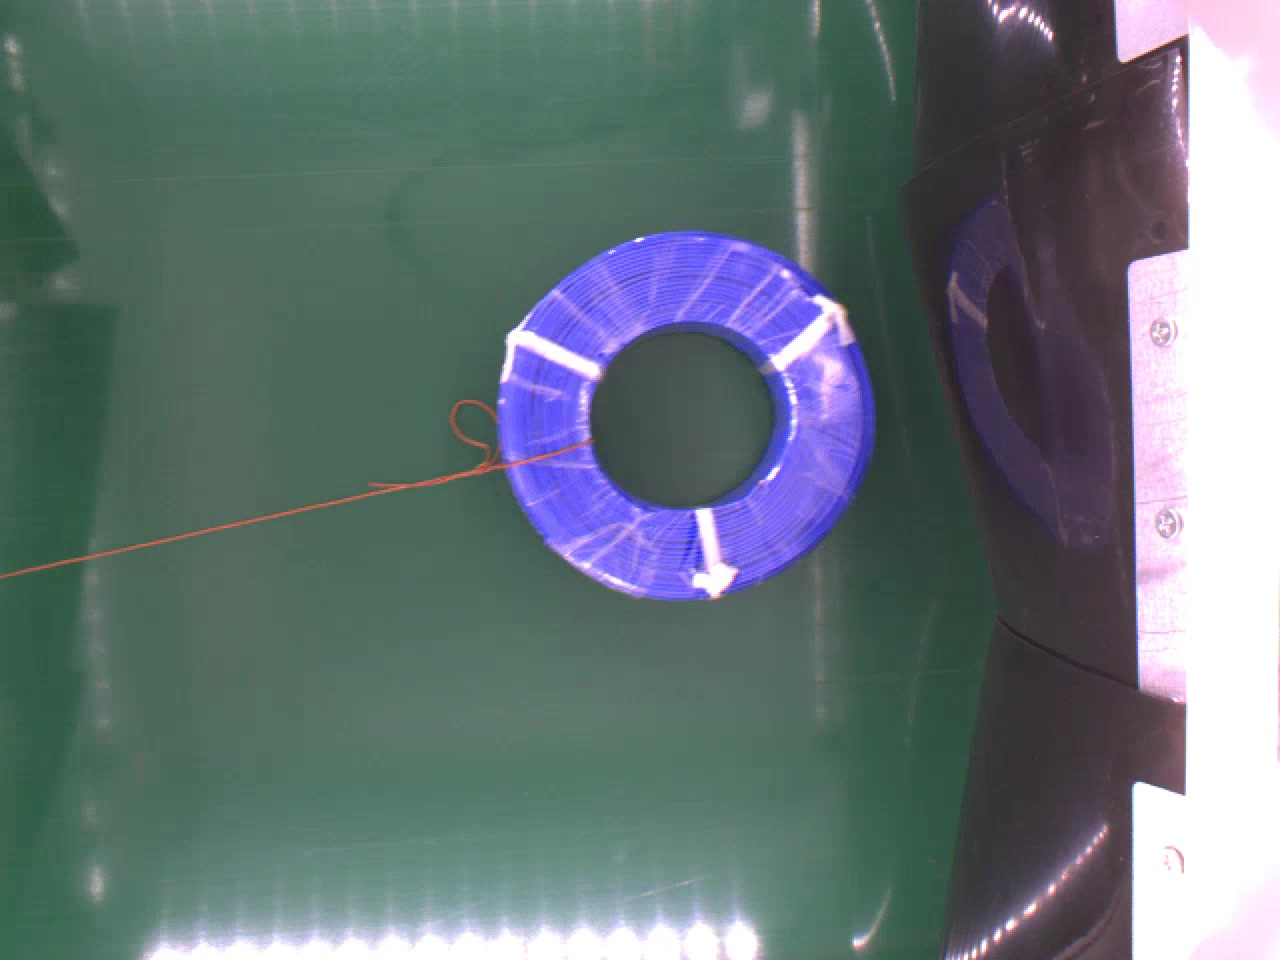blue: (491, 228, 883, 605)
